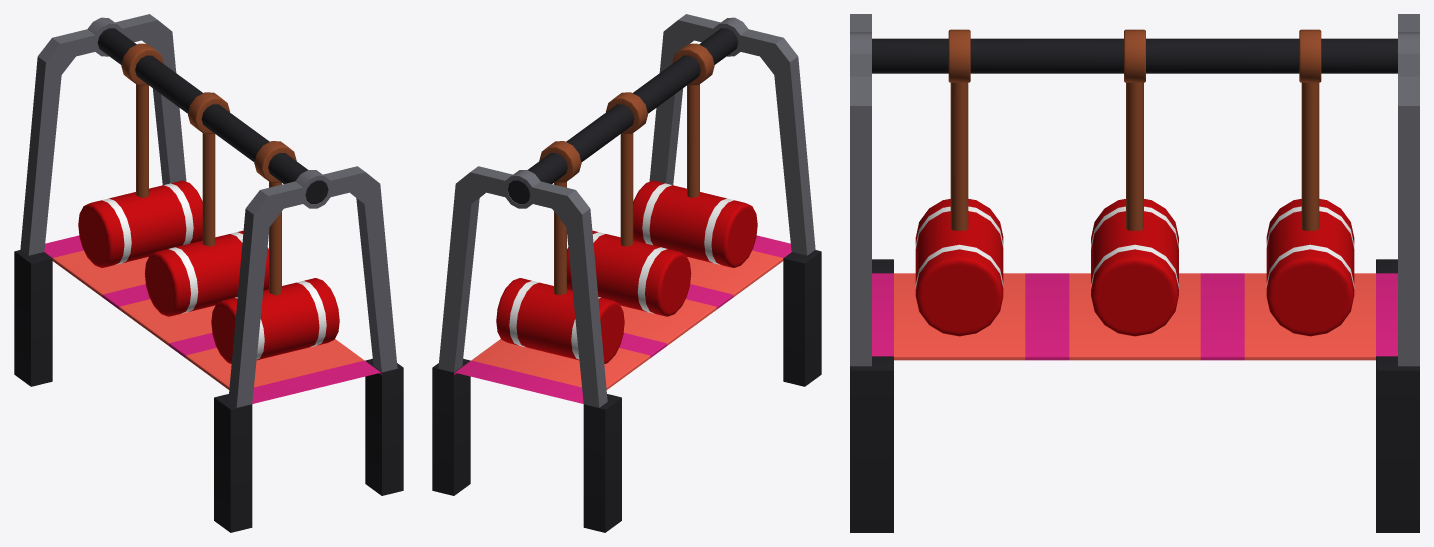
Rendered from Hammer_construction01.fbx.
The picture shows the model from 3 angles, left to right: view 1: azimuth 30°, elevation 25°; view 2: azimuth 150°, elevation 25°; view 3: azimuth 270°, elevation 25°; orthographic projection. The views are drawn at different scales.
Parts seen in each view (by area): view 1: Hammer_construction, Hammer1, Hammer2, Hammer3; view 2: Hammer_construction, Hammer3, Hammer2, Hammer1; view 3: Hammer_construction, Hammer1, Hammer3, Hammer2.
Part boxes in pixels (<box>): Hammer_construction: <box>14,14,403,532</box>; Hammer1: <box>78,43,202,267</box>; Hammer2: <box>144,92,268,316</box>; Hammer3: <box>211,141,339,363</box>; Hammer_construction: <box>432,14,821,532</box>; Hammer3: <box>633,43,757,267</box>; Hammer2: <box>567,92,691,316</box>; Hammer1: <box>496,141,624,363</box>; Hammer_construction: <box>850,14,1419,532</box>; Hammer1: <box>1266,29,1354,336</box>; Hammer3: <box>915,29,1003,336</box>; Hammer2: <box>1091,29,1178,336</box>.
Bounding box in the file's own units: 6 × 11.21 × 13.
